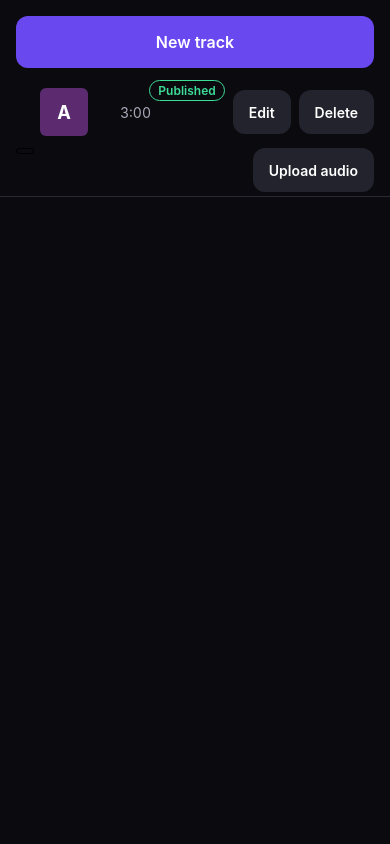
Test case: ArtistTracksScreen › validates the track form client-side
Expected: the element with test id "artist-tracks-list" is shown, x1=0 y1=76 x2=389 y2=197
Click the button with test id "new-track-button".
click(195, 42)  # box x1=16 y1=16 x2=374 y2=68
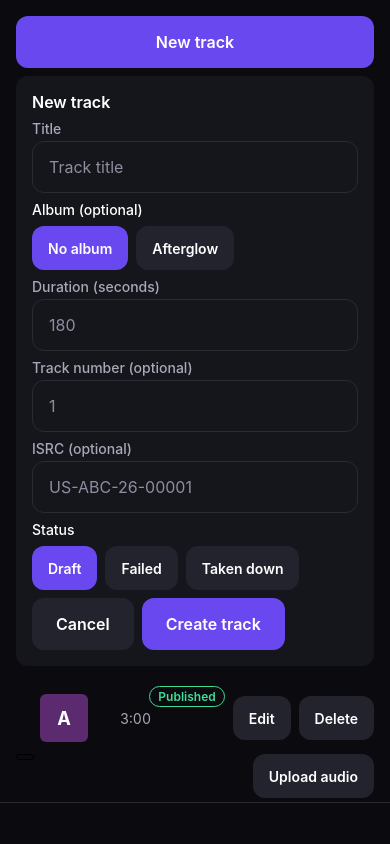
Click the button with test id "track-save".
click(213, 624)  # box x1=142 y1=598 x2=285 y2=650
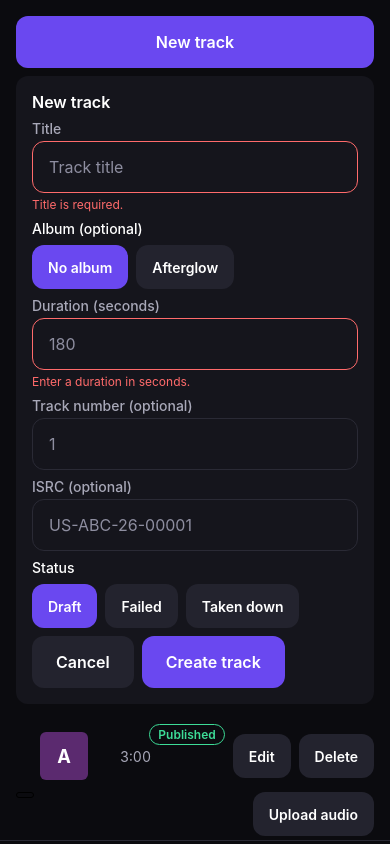
Expected: the text "Title is required." is shown, x1=32 y1=197 x2=123 y2=212
Expected: the text "Enter a duration in seconds." is shown, x1=32 y1=374 x2=190 y2=389
